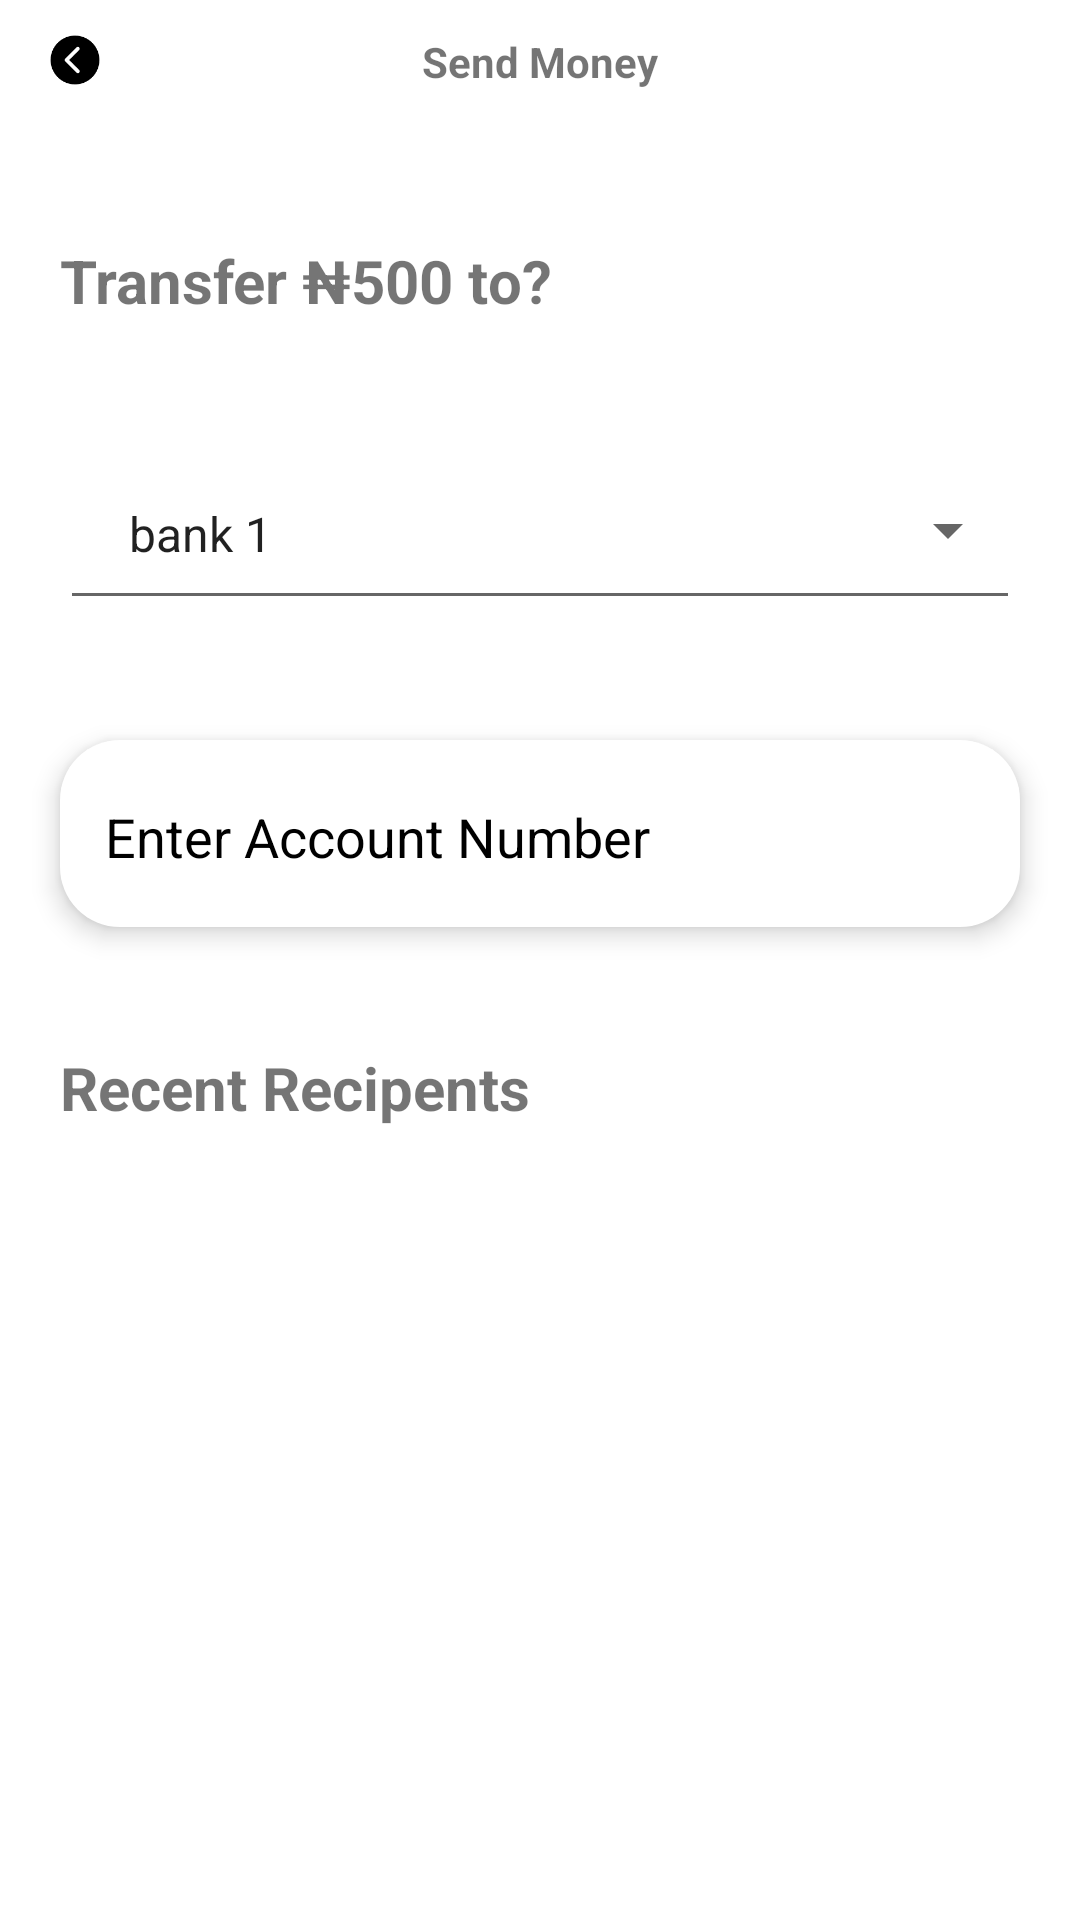

Icons on this 1080*1920 Android screen, each with the point to tap as (x,y):
back circle: (75,60)
